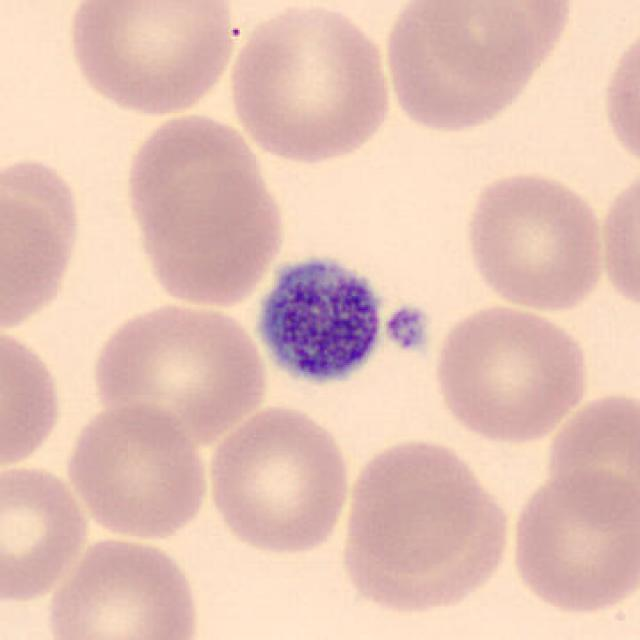Platelets: (247, 247, 388, 391), (382, 302, 432, 354)
RBC: (224, 2, 396, 165), (86, 298, 270, 448), (128, 158, 292, 308), (428, 300, 594, 448), (201, 402, 354, 559), (378, 2, 548, 136), (458, 166, 610, 314), (340, 434, 494, 576), (62, 398, 212, 543), (62, 0, 242, 118), (119, 110, 269, 250), (505, 464, 638, 619), (42, 532, 202, 640), (0, 148, 87, 339), (539, 384, 638, 532), (405, 0, 578, 81), (0, 460, 92, 604), (0, 321, 66, 474), (594, 162, 640, 319), (598, 18, 638, 178)
